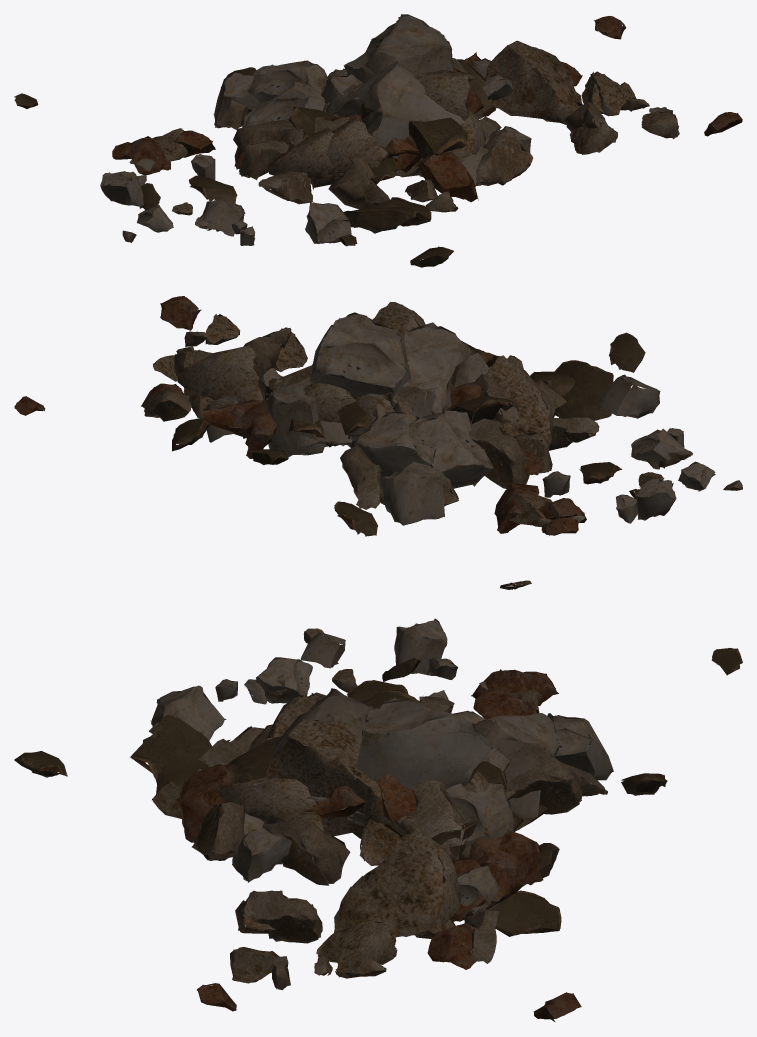
The model's file is fallen_stone_bank.glb.
3 views of the same model, one above another, from view 1: azimuth 30°, elevation 25°; view 2: azimuth 150°, elevation 25°; view 3: azimuth 270°, elevation 25° (orthographic). The views are drawn at different scales.
Parts seen in each view (by area): view 1: Wet masonry; view 2: Wet masonry; view 3: Wet masonry.
Part boxes in pixels (x1=…): Wet masonry: x1=14, y1=14, x2=742, y2=267; Wet masonry: x1=14, y1=296, x2=742, y2=589; Wet masonry: x1=14, y1=618, x2=742, y2=1022.
Size of the model in its own units: 3.35 by 0.6586 by 2.67.
1 material, 1 textured.
